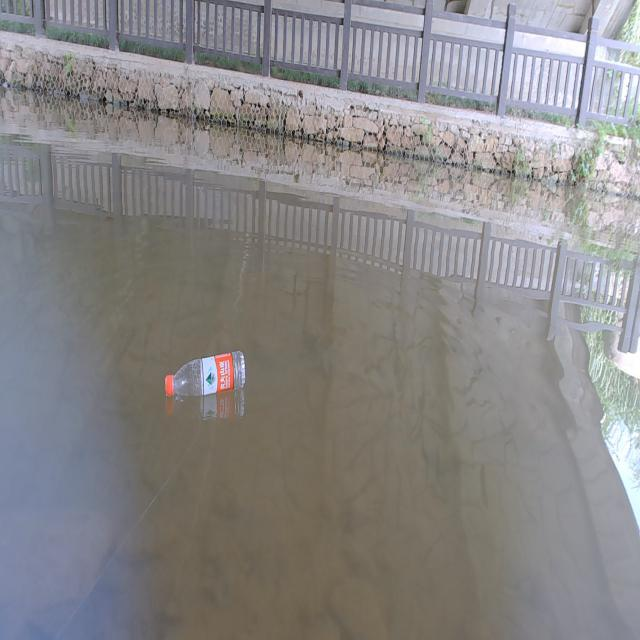Bottle: (165, 348, 247, 398)
